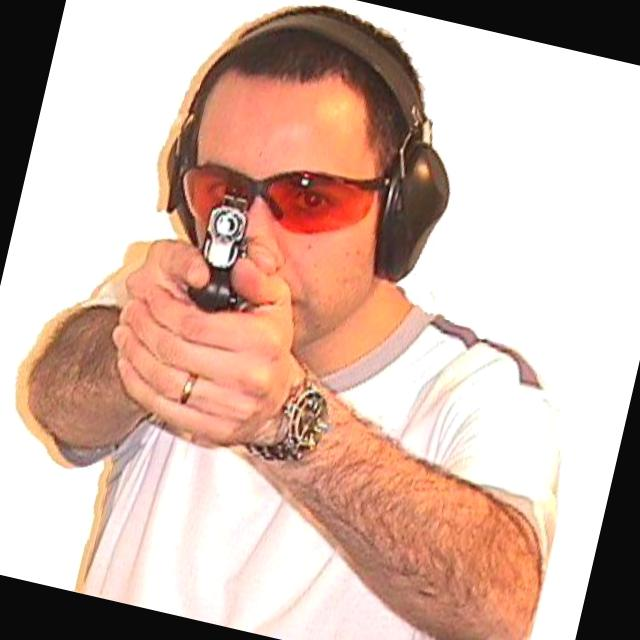handgun: (182, 169, 272, 317)
